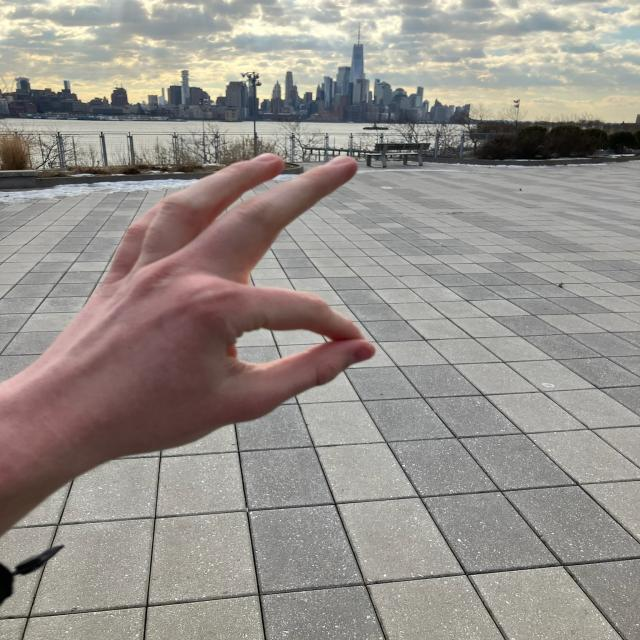WTC: (350, 21, 366, 81)
